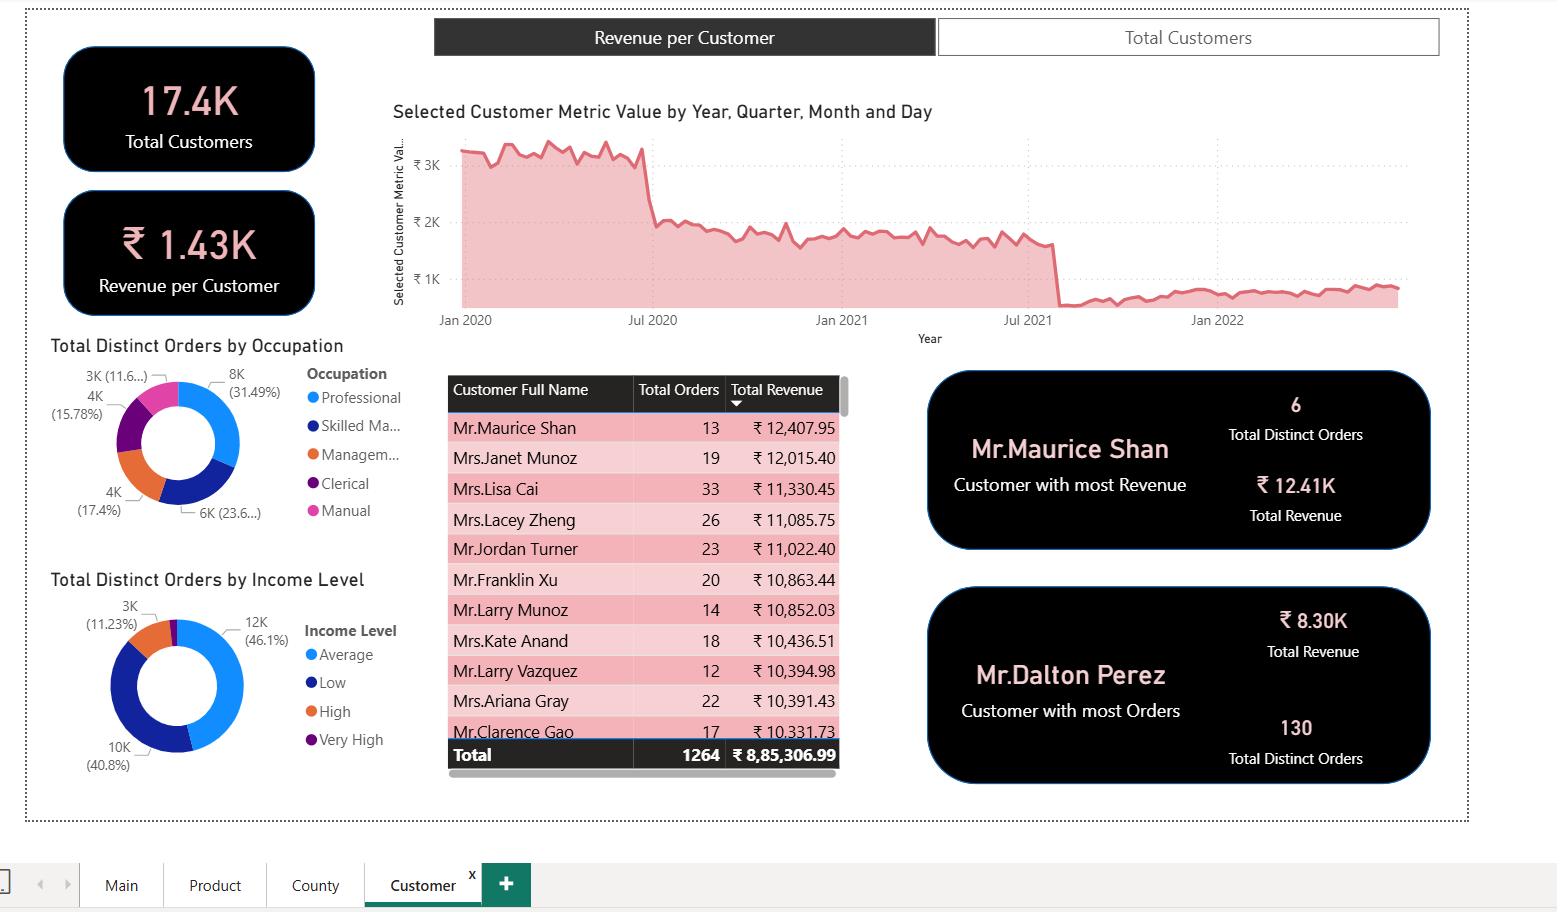

The dashboard page shown, as its layout file describes it:
{"tool":"powerbi","page":{"name":"Customer","canvas":[1280,720],"ordinal":3},"visuals":[{"type":"areaChart","fields":{"Category":["Calendar.First Day of Week.Variation.Date Hierarchy.Year","Calendar.First Day of Week.Variation.Date Hierarchy.Quarter","Calendar.First Day of Week.Variation.Date Hierarchy.Month","Calendar.First Day of Week.Variation.Date Hierarchy.Day"],"Y":["Measure Table.Selected Customer Metric Value"]},"box":[320,80,928,224],"z":0},{"type":"slicer","fields":{"Values":["Customer Metric Selection.Value1"]},"box":[336,0,944,48],"z":1000},{"type":"shape","box":[32,32,224,112],"z":1500},{"type":"shape","box":[800,512,448,176],"z":1562},{"type":"shape","box":[800,320,448,160],"z":1625},{"type":"shape","box":[32,160,224,112],"z":1750},{"type":"tableEx","fields":{"Values":["Customer.Customer Full Name","Measure Table.Total Orders","Measure Table.Total Revenue"]},"box":[368,320,368,368],"z":2000},{"type":"card","fields":{"Values":["Measure Table.Total Customers"]},"box":[32,32,224,112],"z":3000},{"type":"card","fields":{"Values":["Measure Table.Revenue per Customer"]},"box":[32,160,224,112],"z":4000},{"type":"card","fields":{"Values":["Min(Customer.Customer Full Name)"]},"box":[816,336,224,128],"z":5000},{"type":"card","fields":{"Values":["Measure Table.Total Distinct Orders"]},"box":[1040,320,176,80],"z":6000},{"type":"card","fields":{"Values":["Measure Table.Total Revenue"]},"box":[1040,400,176,64],"z":7000},{"type":"card","fields":{"Values":["Min(Customer.Customer Full Name)"]},"box":[800,544,256,112],"z":8000},{"type":"card","fields":{"Values":["Measure Table.Total Distinct Orders"]},"box":[1040,608,176,80],"z":9000},{"type":"card","fields":{"Values":["Measure Table.Total Revenue"]},"box":[1056,512,176,80],"z":10000},{"type":"donutChart","fields":{"Y":["Measure Table.Total Distinct Orders"],"Category":["Customer.Income Level"]},"box":[16,496,336,192],"z":11000},{"type":"donutChart","fields":{"Y":["Measure Table.Total Distinct Orders"],"Category":["Customer.Occupation"]},"box":[16,288,336,176],"z":12000}]}

Visuals, with their boxes on the page's 1280x720 design canvas (x1, y1, x2, y2). These are canvas units, not pixel positions in the 1557x912 screenshot, which may show the page scaled, cropped or inside an application window:
areaChart - Calendar.First Day of Week.Variation.Date Hierarchy.Year x Calendar.First Day of Week.Variation.Date Hierarchy.Quarter: <region>320, 80, 1248, 304</region>
slicer - Customer Metric Selection.Value1: <region>336, 0, 1280, 48</region>
shape: <region>32, 32, 256, 144</region>
shape: <region>800, 512, 1248, 688</region>
shape: <region>800, 320, 1248, 480</region>
shape: <region>32, 160, 256, 272</region>
tableEx - Customer.Customer Full Name x Measure Table.Total Orders: <region>368, 320, 736, 688</region>
card - Measure Table.Total Customers: <region>32, 32, 256, 144</region>
card - Measure Table.Revenue per Customer: <region>32, 160, 256, 272</region>
card - Min(Customer.Customer Full Name): <region>816, 336, 1040, 464</region>
card - Measure Table.Total Distinct Orders: <region>1040, 320, 1216, 400</region>
card - Measure Table.Total Revenue: <region>1040, 400, 1216, 464</region>
card - Min(Customer.Customer Full Name): <region>800, 544, 1056, 656</region>
card - Measure Table.Total Distinct Orders: <region>1040, 608, 1216, 688</region>
card - Measure Table.Total Revenue: <region>1056, 512, 1232, 592</region>
donutChart - Measure Table.Total Distinct Orders x Customer.Income Level: <region>16, 496, 352, 688</region>
donutChart - Measure Table.Total Distinct Orders x Customer.Occupation: <region>16, 288, 352, 464</region>
